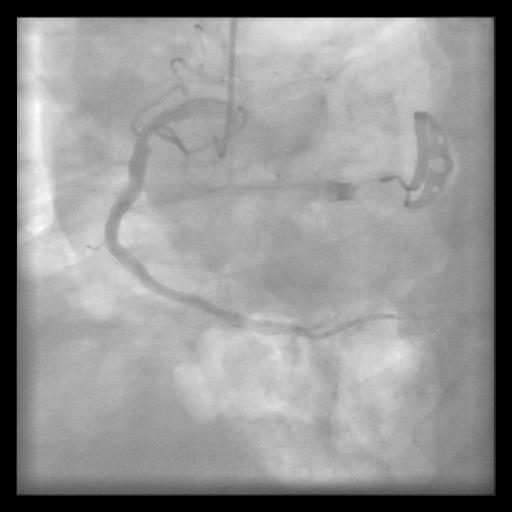Stenosis: (135, 113, 173, 134)
